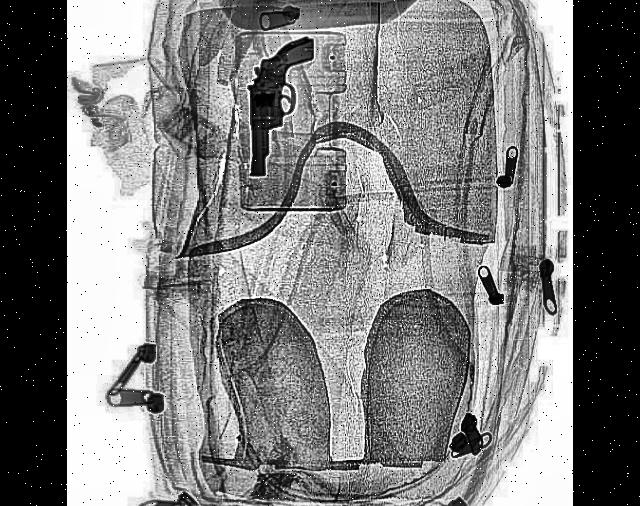Gun: (246, 36, 318, 174)
